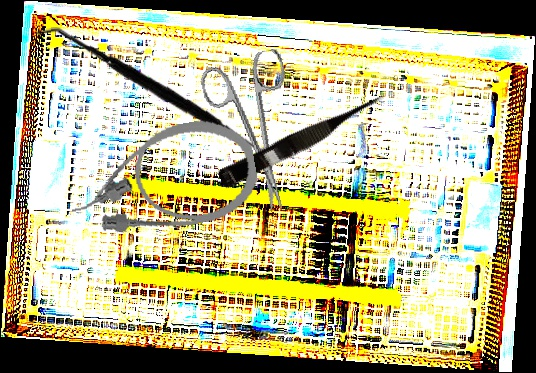Cannula: (60, 112, 264, 245)
Iris Scissors: (197, 47, 315, 221)
Micro Scissor: (216, 87, 393, 194)
Spatula Surgical: (35, 15, 281, 168)
